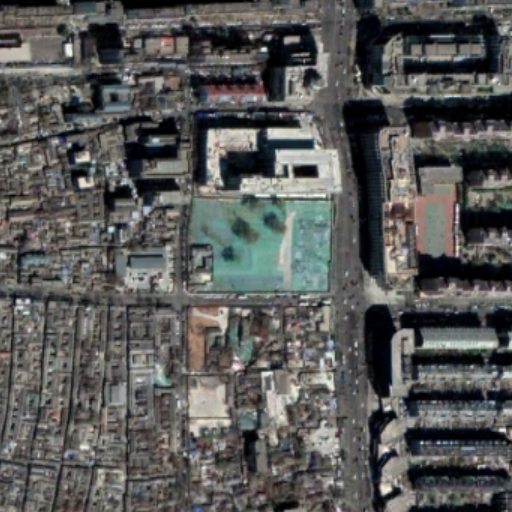cw: (180, 190, 332, 296)
